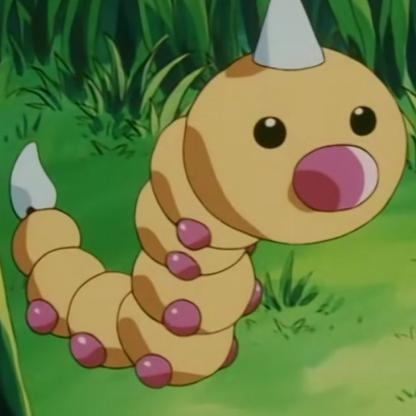Weedle: (11, 2, 407, 392)
